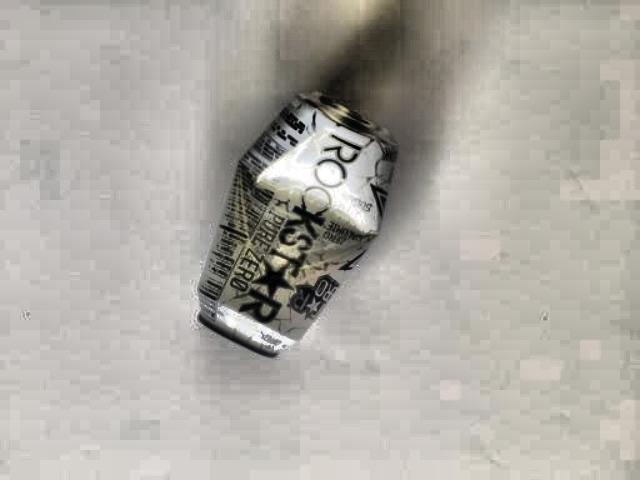Bottles: (173, 74, 421, 384)
